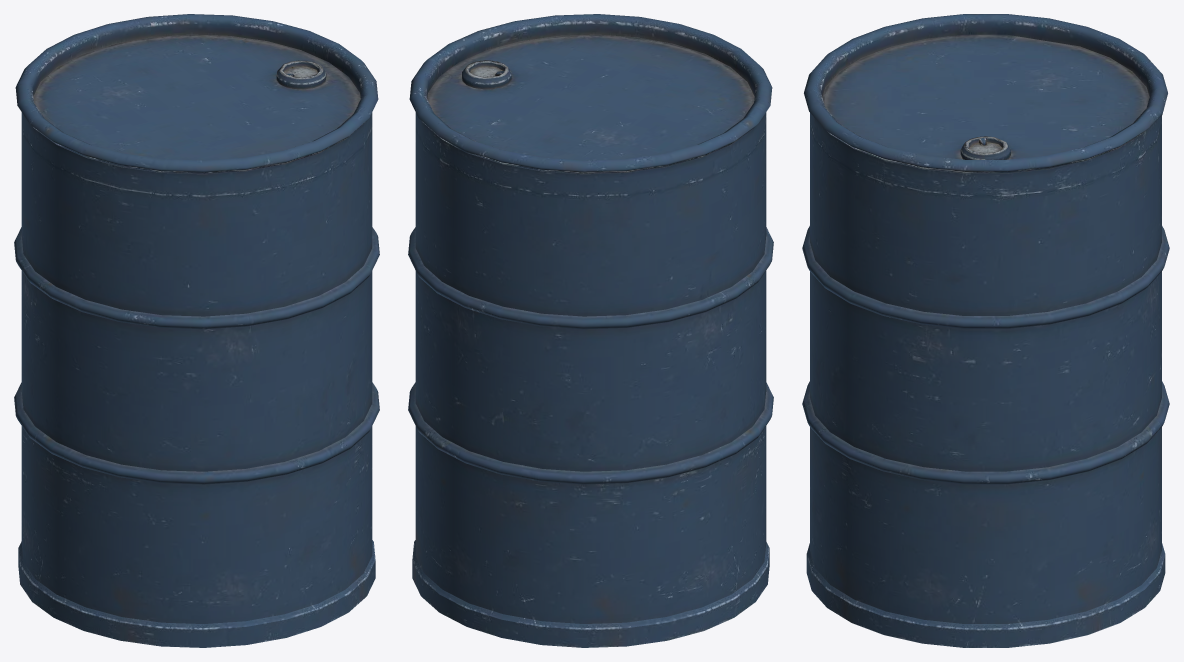
File: barrel_03.glb
3 renders of one model, left to right at view 1: azimuth 30°, elevation 25°; view 2: azimuth 150°, elevation 25°; view 3: azimuth 270°, elevation 25°, orthographic.
Visible parts, largest first — view 1: barrel_03; view 2: barrel_03; view 3: barrel_03.
Boxes of the visible parts, bbox=[...] form: barrel_03: bbox=[14, 14, 379, 647]; barrel_03: bbox=[408, 14, 773, 647]; barrel_03: bbox=[802, 14, 1169, 647].
Size of the model in its own units: 0.634 by 0.9305 by 0.6386.
Materials: 1 (1 with a texture image).
